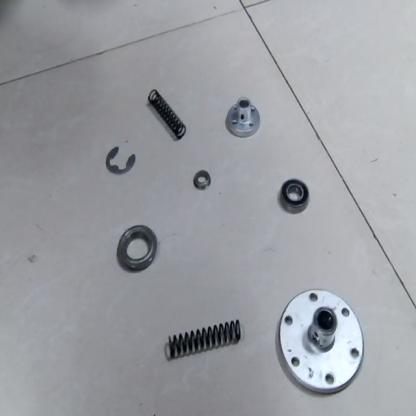FOD: (275, 282, 367, 400), (162, 314, 244, 366), (145, 83, 188, 142), (113, 222, 160, 275), (224, 93, 261, 142), (279, 176, 310, 216), (102, 144, 139, 175), (192, 167, 212, 191)
